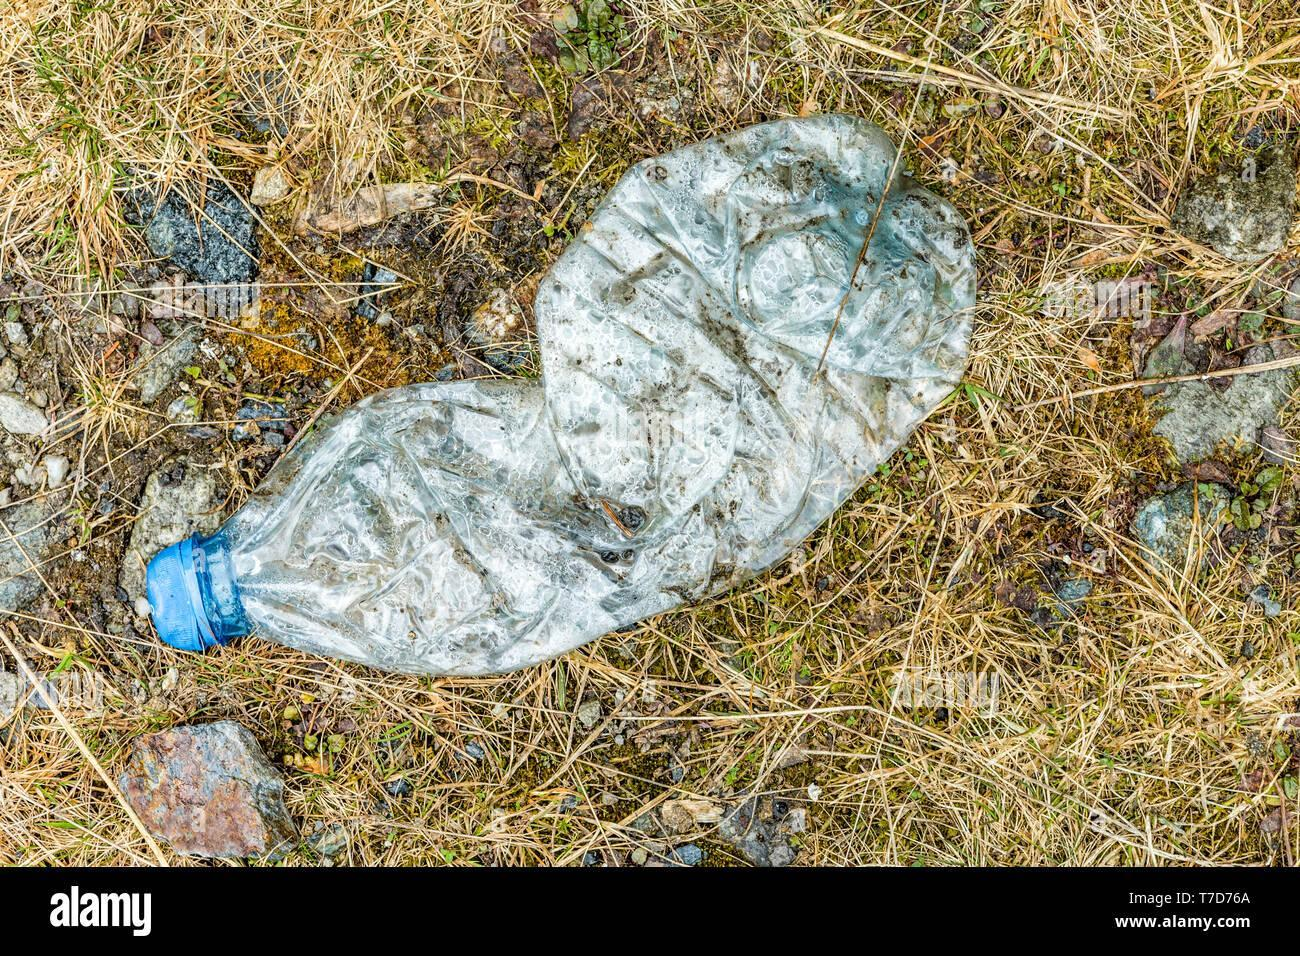bottle: (116, 88, 988, 728)
